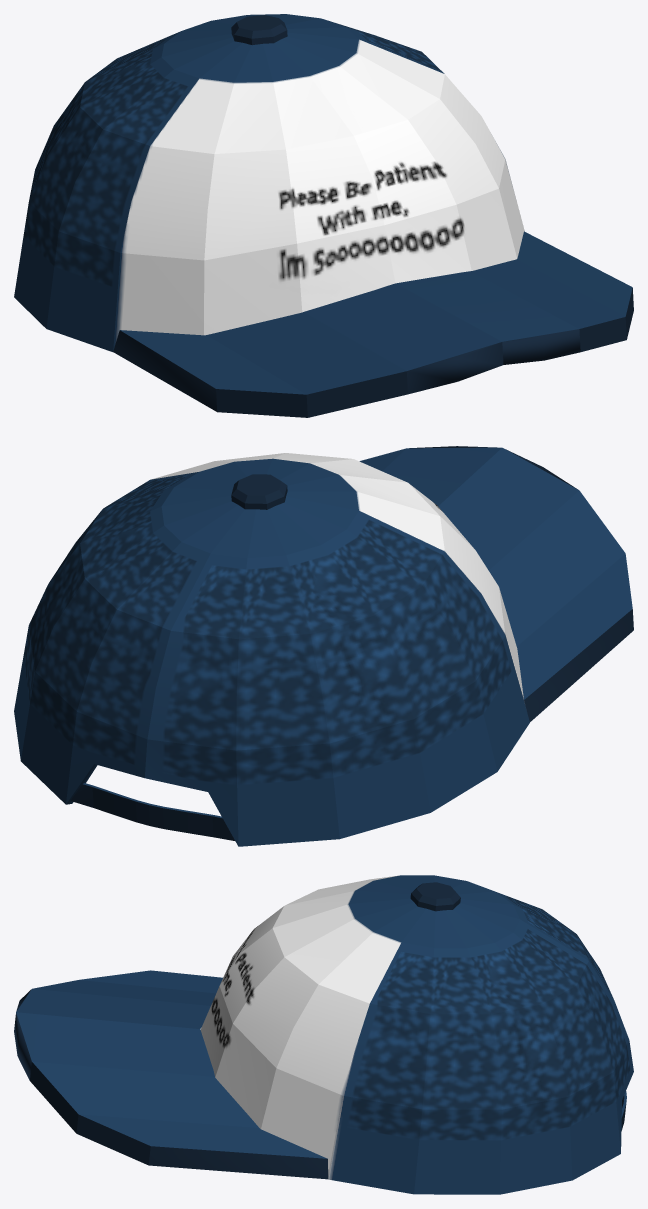
File: truckerimsoocap.glb
The picture shows the model from 3 angles, top to bottom: view 1: azimuth 30°, elevation 25°; view 2: azimuth 150°, elevation 25°; view 3: azimuth 270°, elevation 25°; orthographic projection. The views are drawn at different scales.
Parts seen in each view (by area): view 1: CapDark_Sphere; view 2: CapDark_Sphere; view 3: CapDark_Sphere.
Boxes of the visible parts, box(x1,y1,x2,y2) form: CapDark_Sphere: box(14, 14, 633, 417); CapDark_Sphere: box(14, 446, 633, 846); CapDark_Sphere: box(14, 875, 633, 1194).
Bounding box in the file's own units: 5.94 × 3.34 × 8.18.
2 materials, 2 textured.
